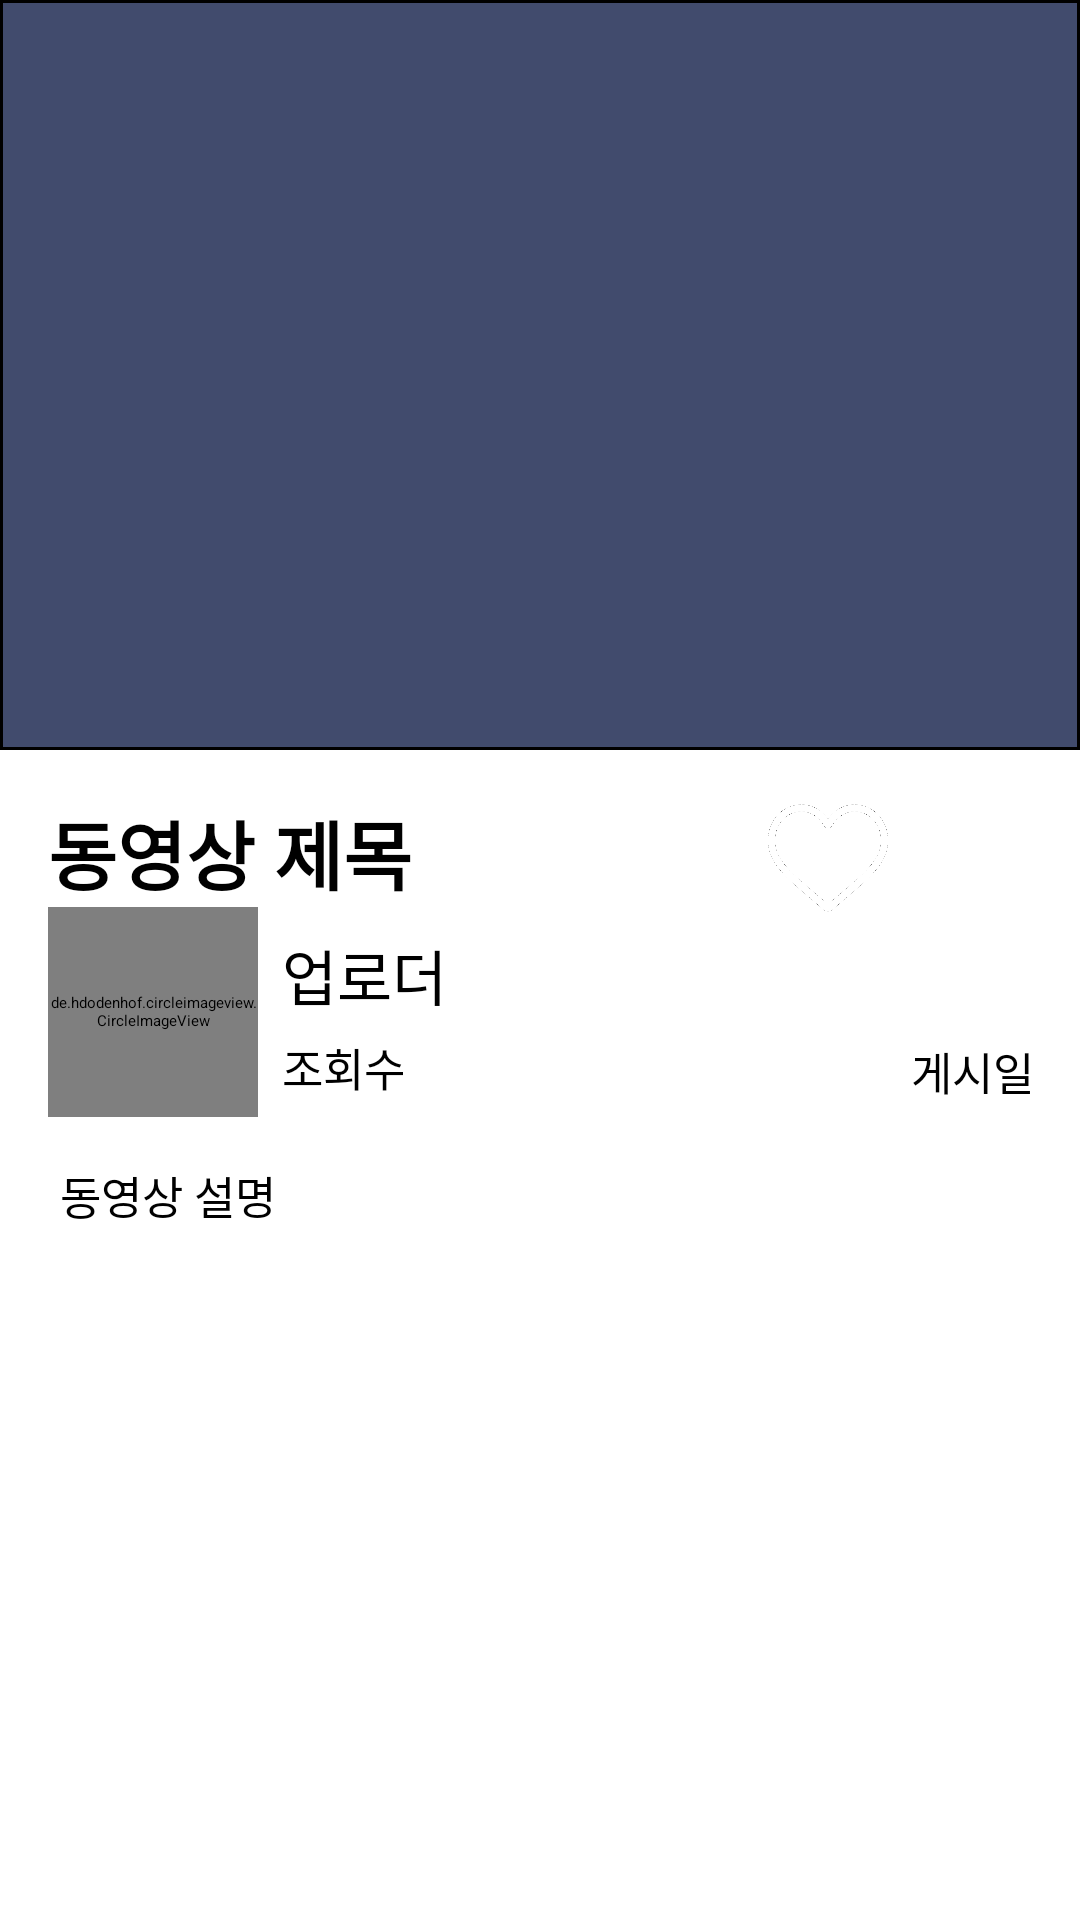

Screen size 1080 x 1920. Icon name, then its center in pixels as (x=x, y=y):
empty heart: (x=828, y=857)
